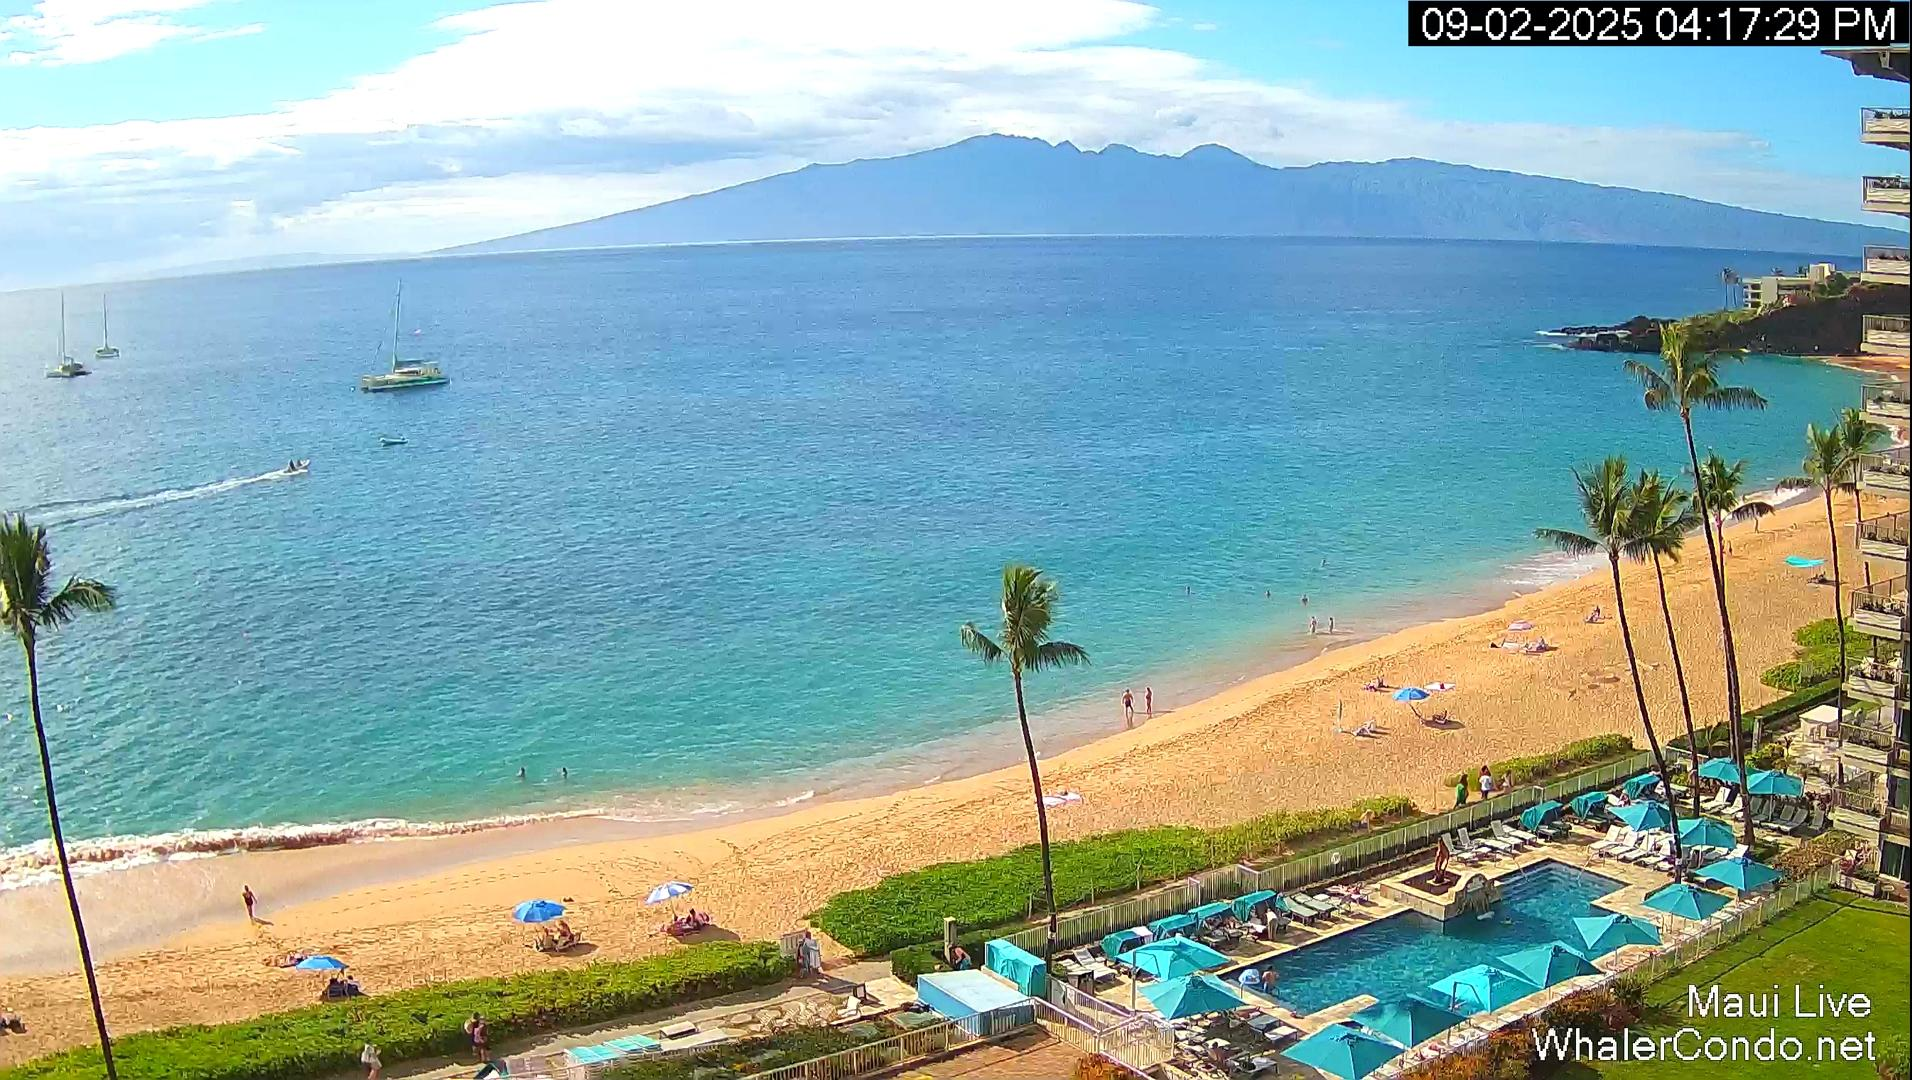boat: (360, 278, 448, 390), (44, 291, 92, 378), (95, 294, 120, 357), (284, 460, 314, 474), (379, 437, 409, 445)
person: (465, 1012, 488, 1063), (797, 931, 818, 982), (361, 1040, 382, 1080), (552, 920, 576, 950), (950, 942, 973, 971), (241, 884, 258, 922), (473, 1024, 488, 1063), (1211, 1038, 1230, 1064), (951, 946, 971, 970), (1261, 966, 1278, 994), (536, 927, 554, 953), (1121, 688, 1135, 721), (1499, 768, 1513, 800), (686, 908, 708, 928), (1478, 769, 1492, 800), (1427, 709, 1452, 726), (1585, 604, 1601, 627), (1368, 674, 1386, 694), (325, 978, 341, 999), (346, 974, 360, 997), (1460, 772, 1470, 803), (1454, 781, 1465, 809), (1808, 569, 1827, 585), (1144, 686, 1153, 716), (686, 909, 698, 926), (1310, 617, 1318, 634), (289, 459, 299, 472), (516, 766, 526, 778), (1328, 616, 1334, 634), (297, 458, 305, 470), (1321, 556, 1327, 571), (1302, 594, 1308, 606), (562, 766, 568, 778), (1266, 590, 1271, 598), (1186, 586, 1190, 596)
